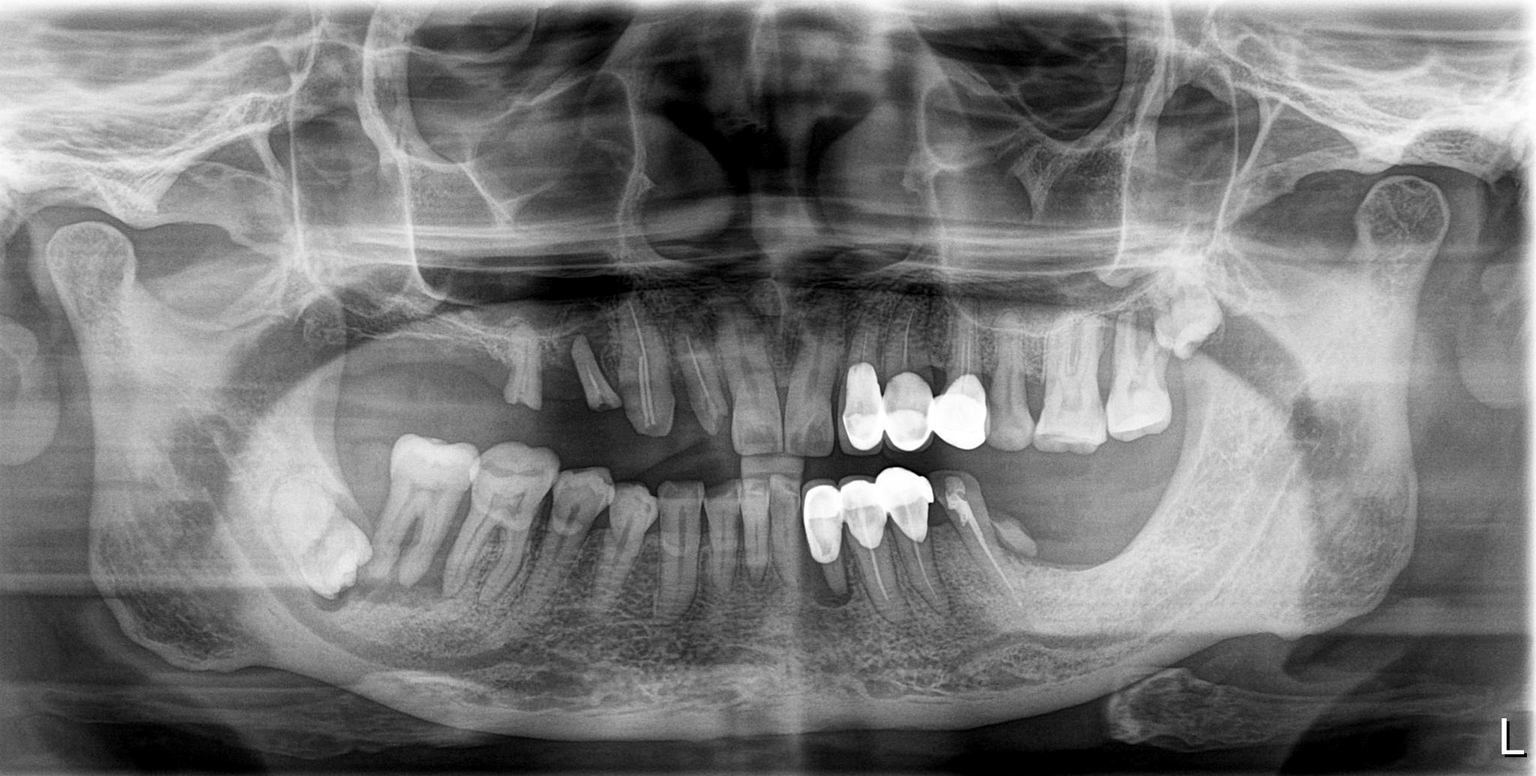Endodontically Treated Tooth: (784, 304, 844, 456), (611, 298, 673, 441), (842, 296, 893, 455), (949, 474, 1009, 602), (731, 317, 785, 456), (894, 296, 940, 450), (892, 478, 946, 606), (679, 317, 727, 435), (949, 300, 988, 444), (799, 484, 844, 606), (848, 484, 890, 609), (572, 324, 610, 420)
Impacted Third Molar: (261, 474, 379, 596), (1144, 261, 1226, 366)
Missing Tooth: (1031, 480, 1106, 605), (1119, 480, 1187, 606), (345, 326, 406, 434), (414, 334, 463, 434), (532, 334, 586, 420), (472, 336, 508, 431)
Periodontal Pocket: (386, 515, 434, 584)
